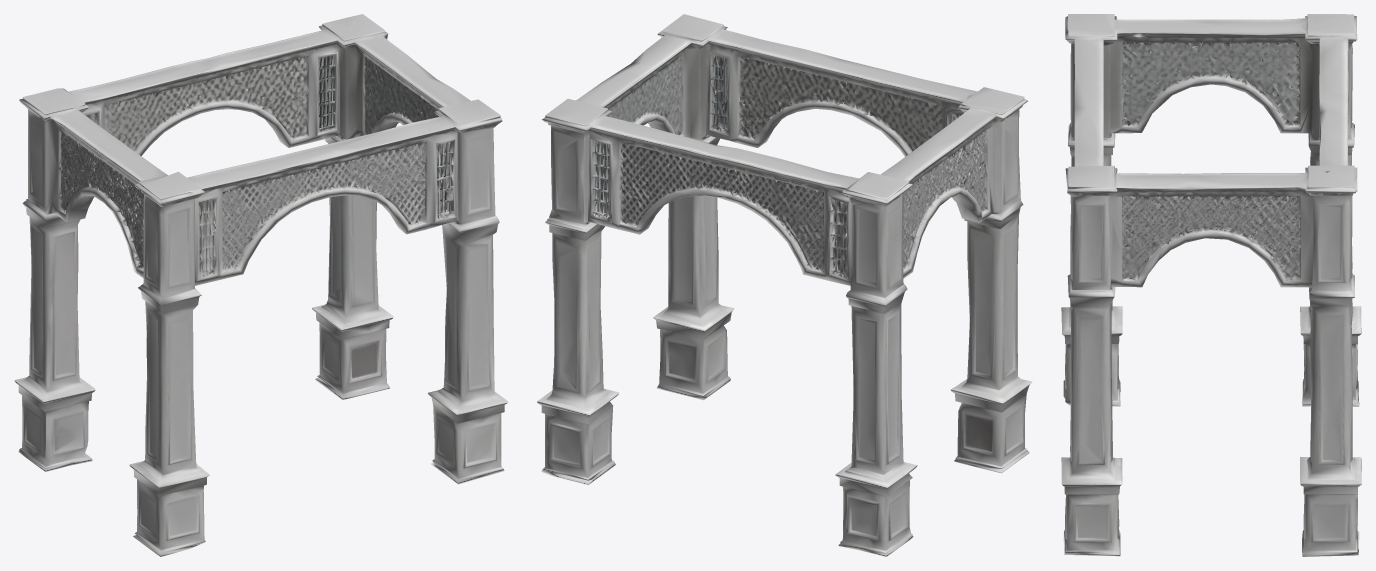
Rendered from chuppah-arch-lattice.glb.
The picture shows the model from 3 angles, left to right: view 1: azimuth 30°, elevation 25°; view 2: azimuth 150°, elevation 25°; view 3: azimuth 270°, elevation 25°; orthographic projection. The views are drawn at different scales.
Parts seen in each view (by area): view 1: tripo_node_4186b497-3845-43b6-8c28-ea53e38e1132; view 2: tripo_node_4186b497-3845-43b6-8c28-ea53e38e1132; view 3: tripo_node_4186b497-3845-43b6-8c28-ea53e38e1132.
Boxes of the visible parts, x1=… form: tripo_node_4186b497-3845-43b6-8c28-ea53e38e1132: x1=14, y1=14, x2=508, y2=556; tripo_node_4186b497-3845-43b6-8c28-ea53e38e1132: x1=537, y1=14, x2=1032, y2=556; tripo_node_4186b497-3845-43b6-8c28-ea53e38e1132: x1=1061, y1=14, x2=1361, y2=556.
Size of the model in its own units: 2.96 by 2.9 by 2.12.
Materials: 1 (1 with a texture image).
